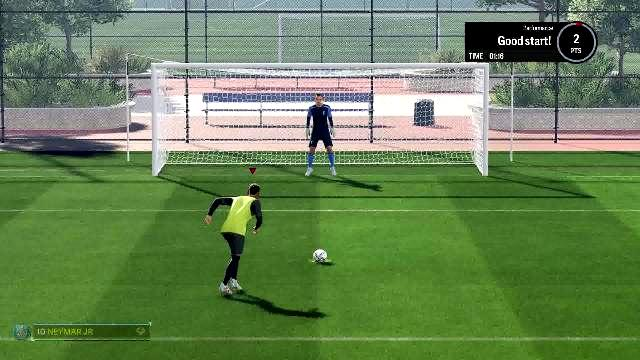bottom-left: (162, 132, 262, 178)
bottom-right: (369, 132, 473, 176)
center-down: (264, 129, 370, 175)
center-up: (266, 73, 370, 127)
football: (313, 249, 329, 263)
goalkeeper: (301, 94, 345, 178)
player: (202, 185, 266, 302)
top-left: (162, 73, 262, 129)
top-right: (372, 72, 481, 128)
